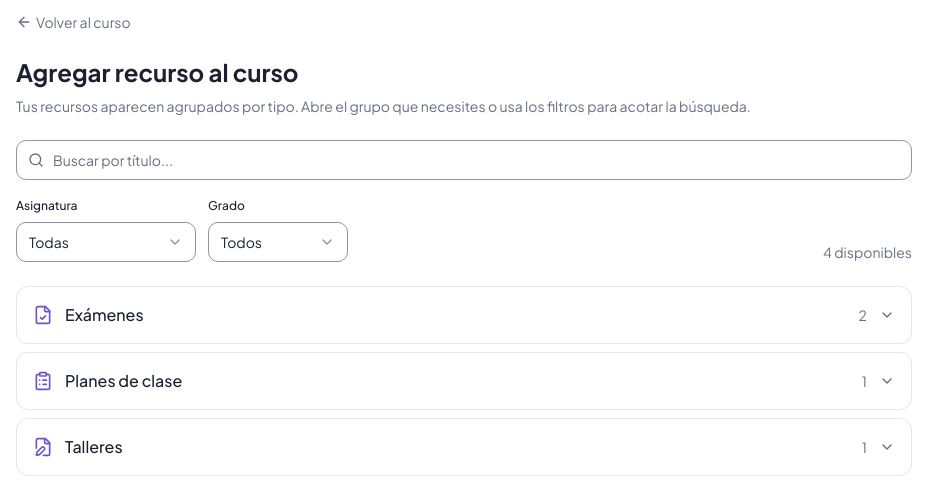
Scenario: Agregar recurso al curso › filtra por asignatura y permite limpiar los filtros
The width and height of the screenshot is (929, 493).
expect the button "Exámenes 2" is shown: met, box [17,287,911,343]
What coordinates should you click on to do the following:
click the dropdown named "Asignatura"
I would click on:
 (106, 242)
Its box is [16,222,196,262].
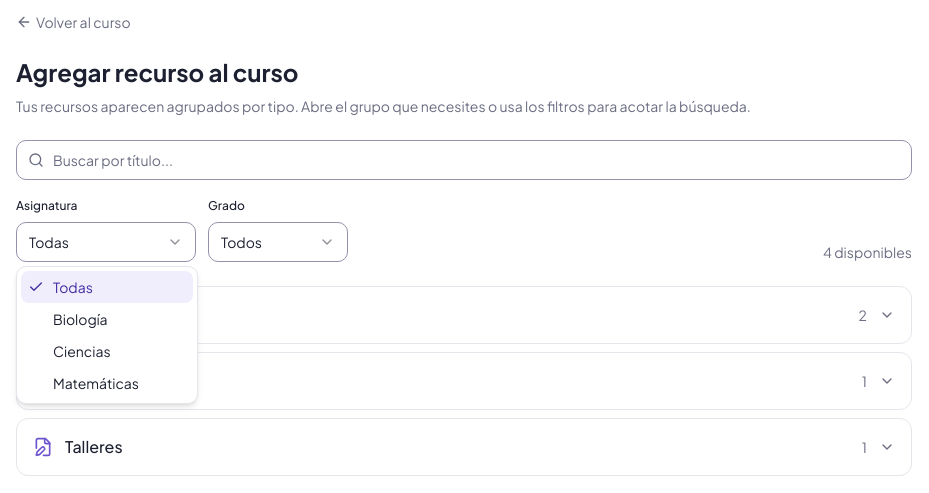
What coordinates should you click on to do the following:
click the option "Matemáticas"
I would click on:
 (96, 383)
Its box is [53,374,139,392].
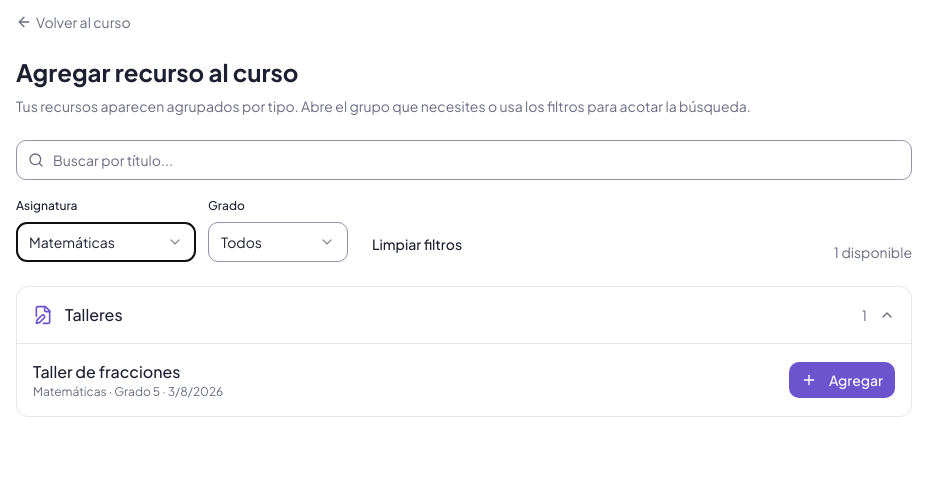
expect the text "1 disponible" is shown: met, box [834,242,912,262]
expect the text "Taller de fracciones" is shown: met, box [33,361,180,382]
What coordinates should you click on to do the following:
click the button "Limpiar filtros"
I would click on:
 (417, 244)
Its box is [360,226,474,262].
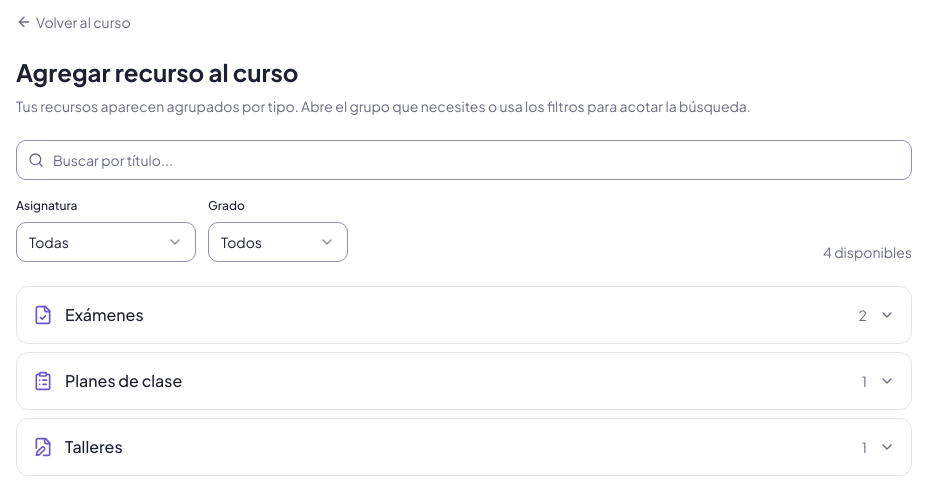
expect the text "4 disponibles" is shown: met, box [823,242,912,262]
